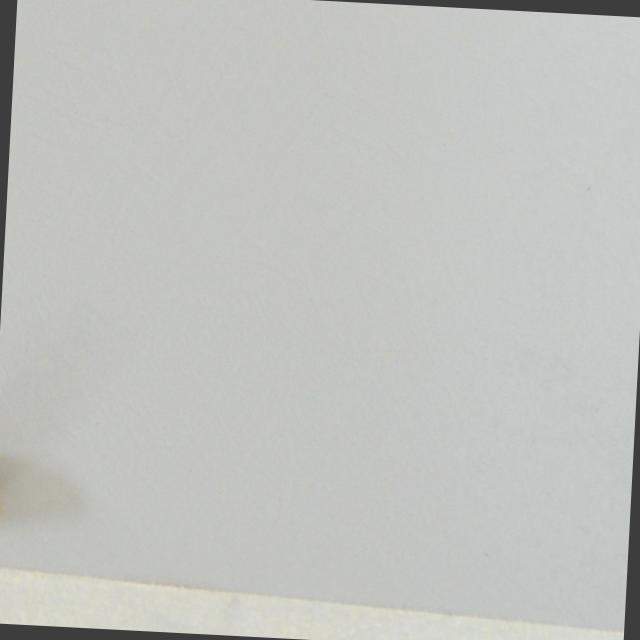dañado: (0, 445, 25, 555)
